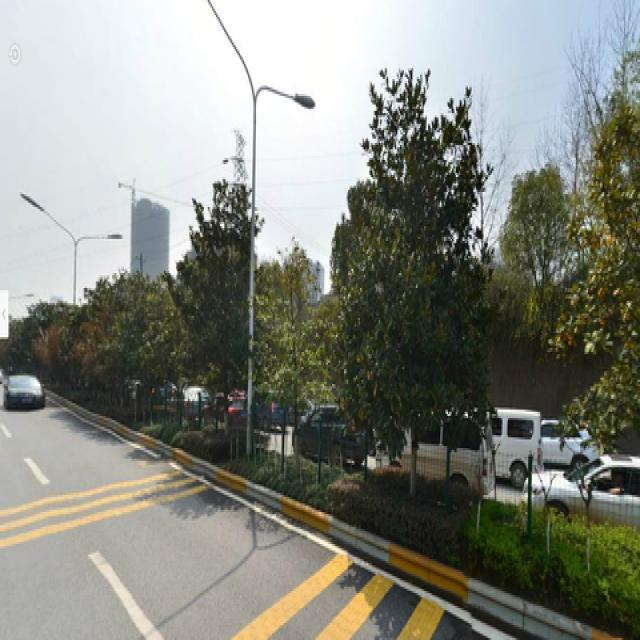magn: (369, 107, 452, 484), (185, 198, 247, 412)
